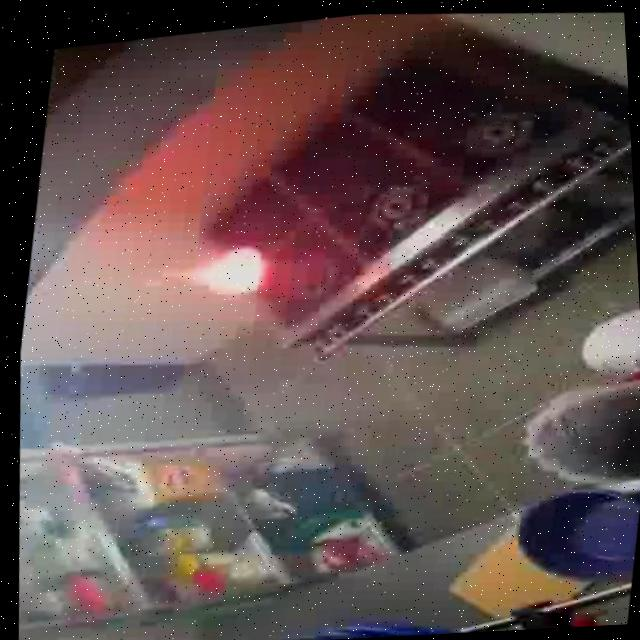fire: (137, 215, 293, 323)
